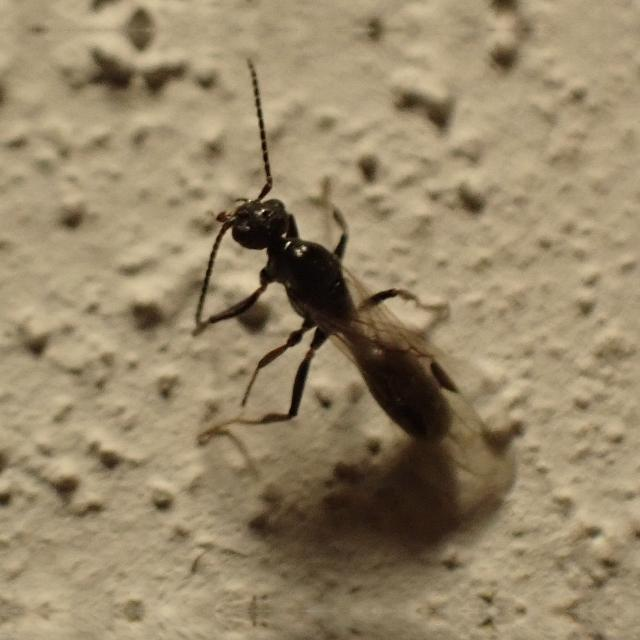Dolichoderus: (152, 105, 532, 502)
